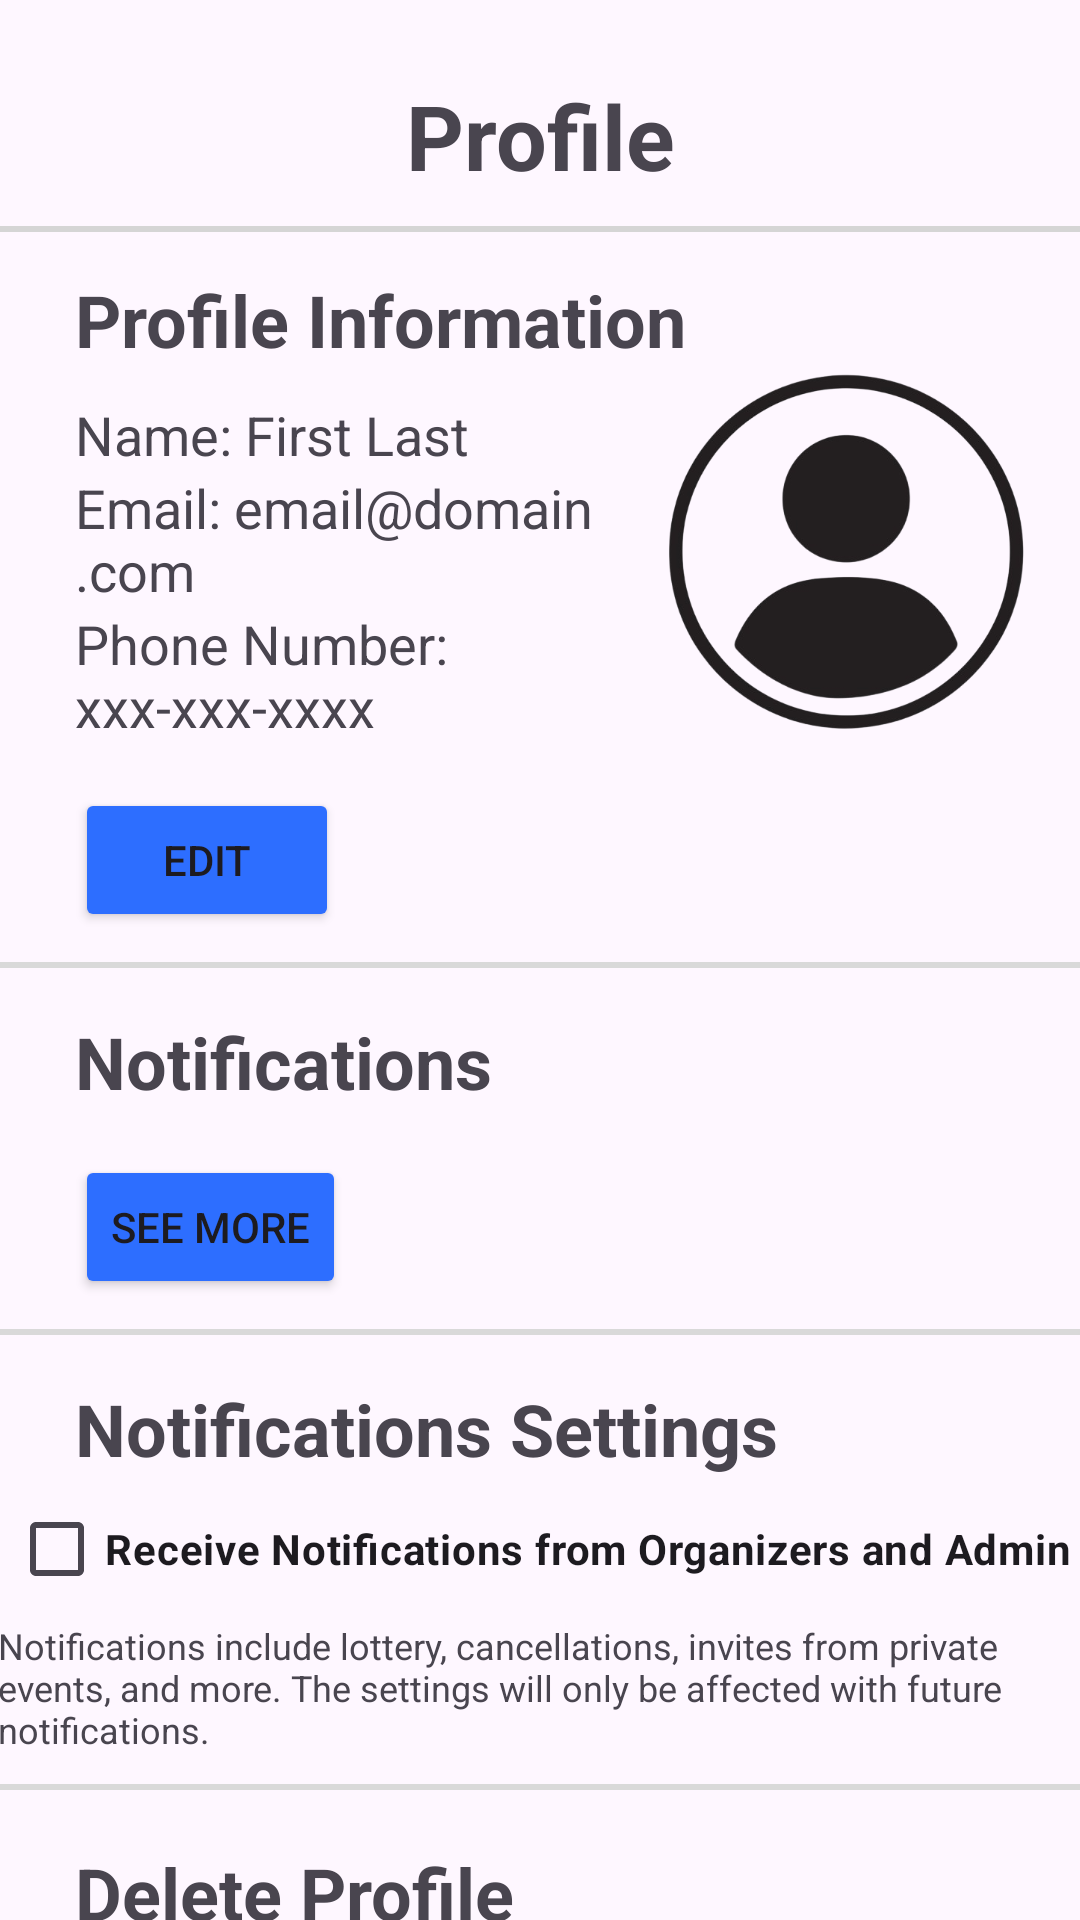

Icons on this 1080×1920 Android screen, each with its box as (x1, y1, x2, y2):
user profile: (669, 375, 1024, 729)
